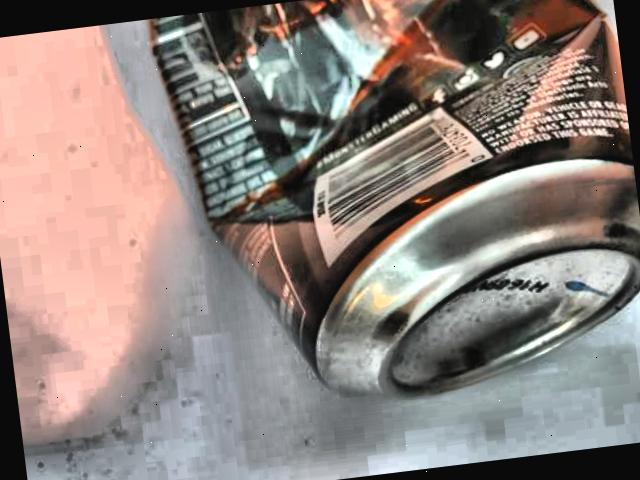Bottles: (108, 0, 640, 437)
